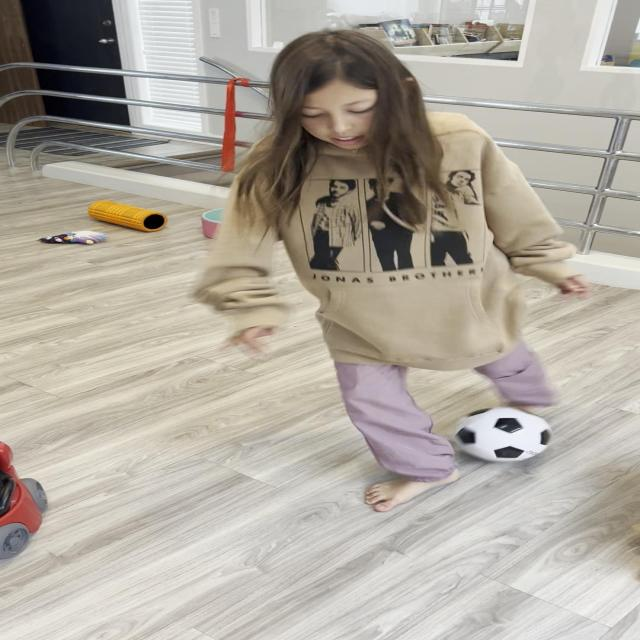Soccer Ball: (449, 406, 554, 461)
